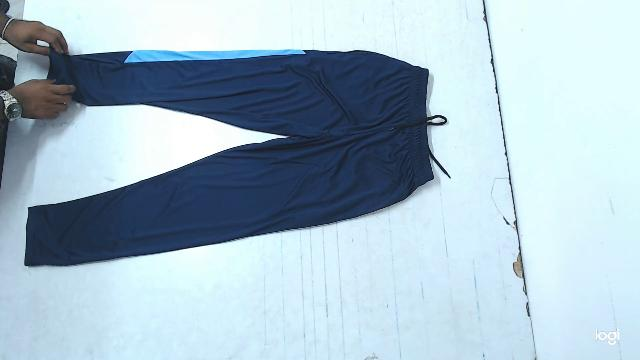new-garment: (24, 50, 449, 266)
